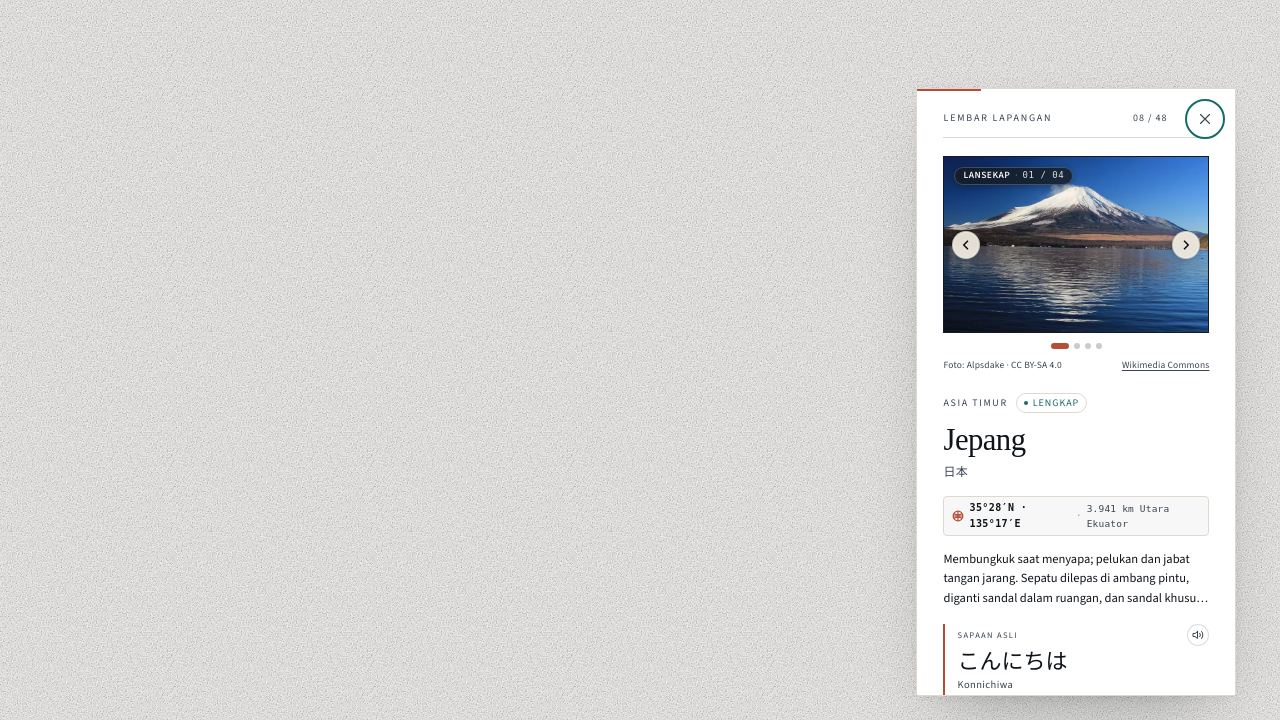
Test case: CountryPreviewPanel (Hero Panel Preview) › merender carousel foto lokal 4 peran dengan counter, panah dan dots
Check: the element with class "country-preview__photo-pill" is shown, box [954,167,1073,184]
Check: the element with class "country-preview__photo-pill" shows "01 / 04", box [1022,170,1064,180]
Click the button with class "country-preview__photo-nav--next" at (1186, 245), box [1172,231,1200,259]
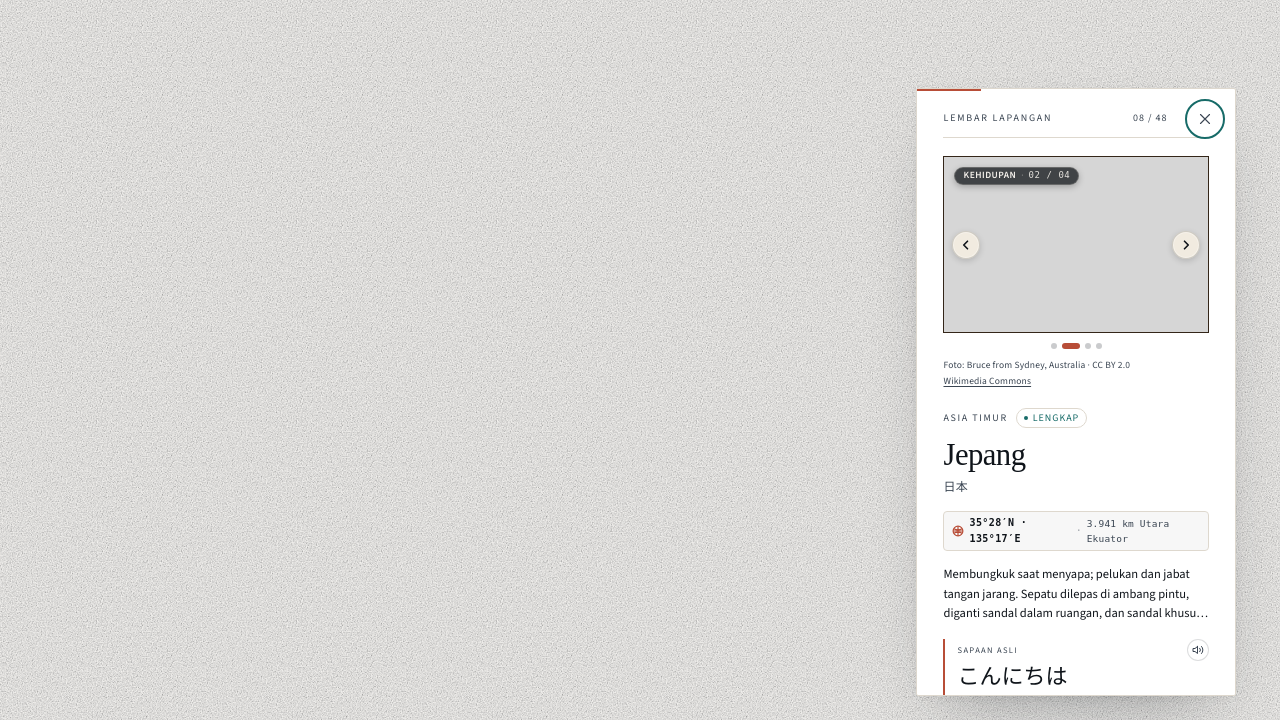
Check: the element with class "country-preview__photo-pill" shows "02 / 04", box [1029,170,1070,180]
# Klik dot ke-4 langsung
Click the 4th tab with class "country-preview__dot" at (1099, 346), box [1096,343,1102,349]
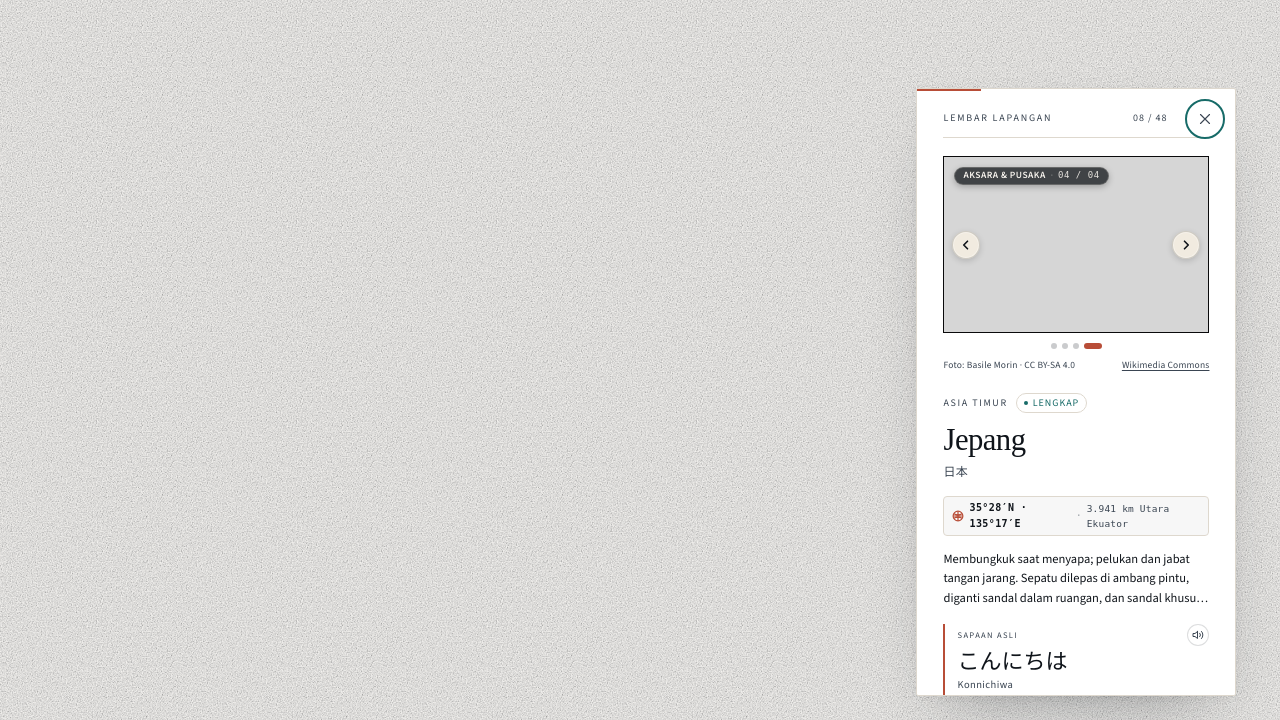
Check: the element with class "country-preview__photo-pill" shows "04 / 04", box [1058,170,1100,180]
# Navigasi keyboard: ArrowRight memutar kembali ke 01 / 04
Press ArrowRight
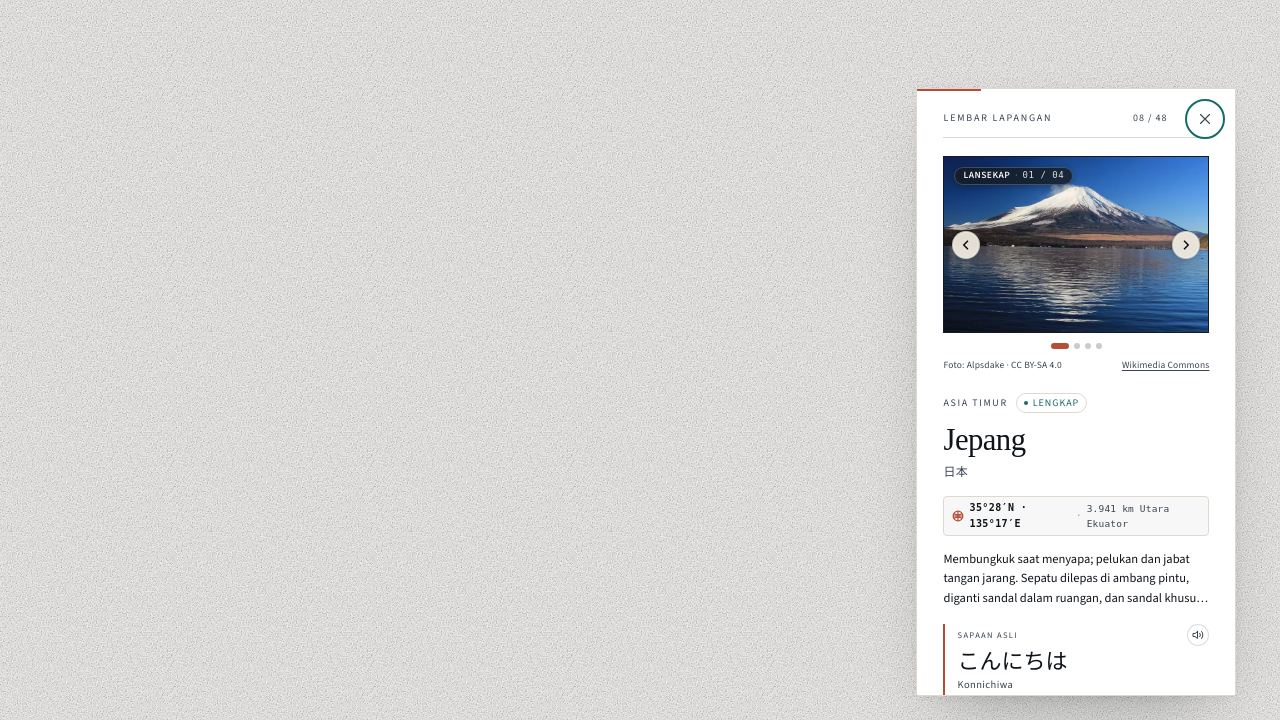
Check: the element with class "country-preview__photo-pill" shows "01 / 04", box [1022,170,1064,180]
# ArrowLeft memutar kembali ke 04 / 04
Press ArrowLeft
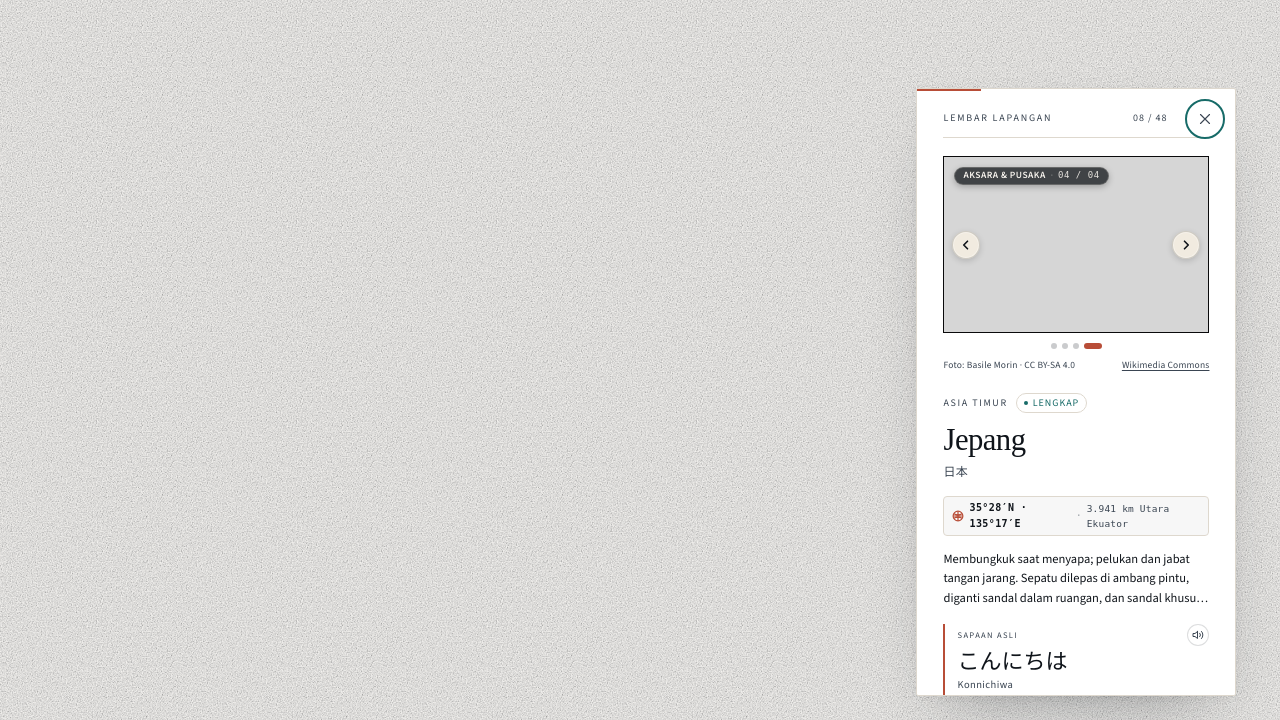
Check: the element with class "country-preview__photo-pill" shows "04 / 04", box [1058,170,1100,180]
